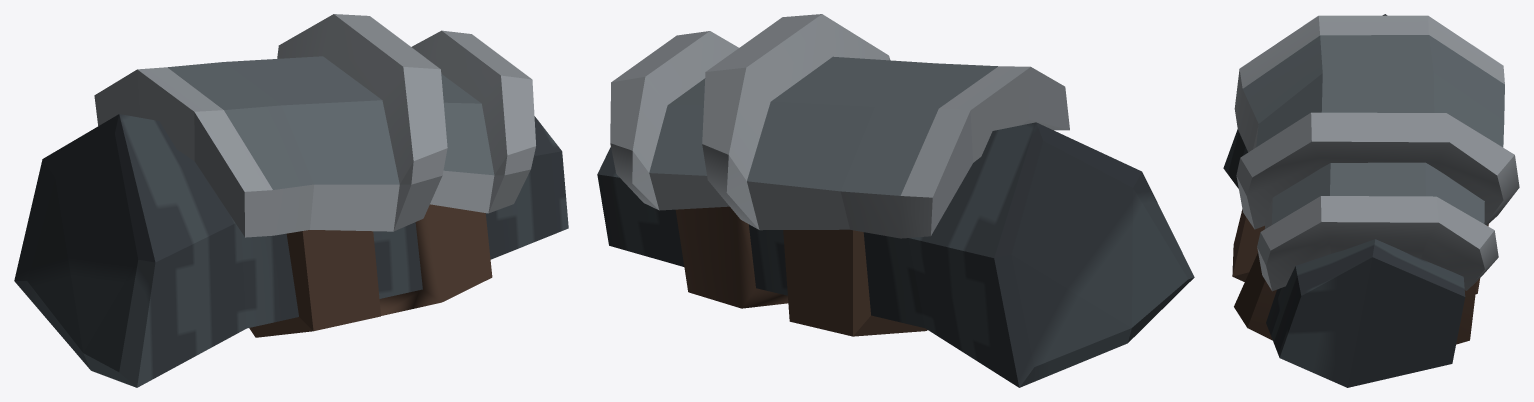
The model's file is Chr_ArmUpperLeft_Male_04_Static.fbx.
3 renders of one model, left to right at view 1: azimuth 30°, elevation 25°; view 2: azimuth 150°, elevation 25°; view 3: azimuth 270°, elevation 25°, orthographic. The views are drawn at different scales.
Visible parts, largest first — view 1: Chr_ArmUpperLeft_Male_04_Static; view 2: Chr_ArmUpperLeft_Male_04_Static; view 3: Chr_ArmUpperLeft_Male_04_Static.
Part boxes in pixels (box(x1,y1,x2,y2)): Chr_ArmUpperLeft_Male_04_Static: box(14, 14, 568, 387); Chr_ArmUpperLeft_Male_04_Static: box(597, 14, 1194, 387); Chr_ArmUpperLeft_Male_04_Static: box(1223, 14, 1519, 387).
Size of the model in its own units: 0.3244 by 0.1732 by 0.1856.
